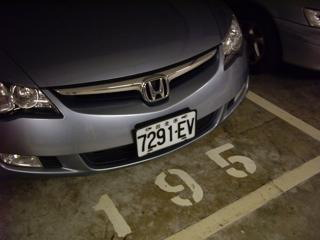plate: (135, 114, 197, 155)
